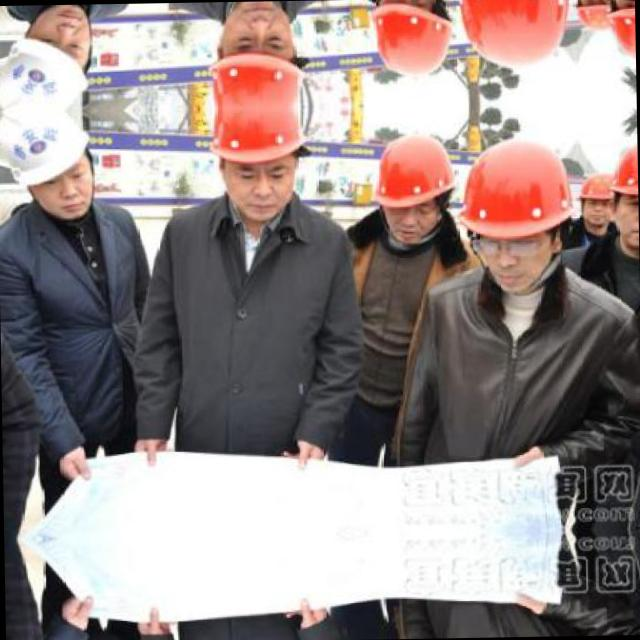helmet: (467, 148, 572, 285), (368, 130, 462, 258), (208, 107, 302, 220), (204, 0, 300, 108), (6, 112, 100, 222), (4, 4, 98, 110), (365, 0, 459, 81), (463, 0, 569, 59), (580, 160, 618, 236), (614, 134, 638, 253), (578, 0, 617, 43), (611, 0, 635, 66)
